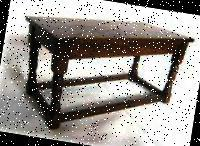Mesa: (10, 4, 197, 145)
